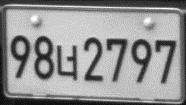2: (83, 37, 104, 83)
7: (105, 37, 128, 83), (154, 39, 177, 85)
8: (33, 36, 54, 78)
9: (9, 34, 32, 78), (131, 38, 153, 83)
너: (55, 43, 78, 82)
